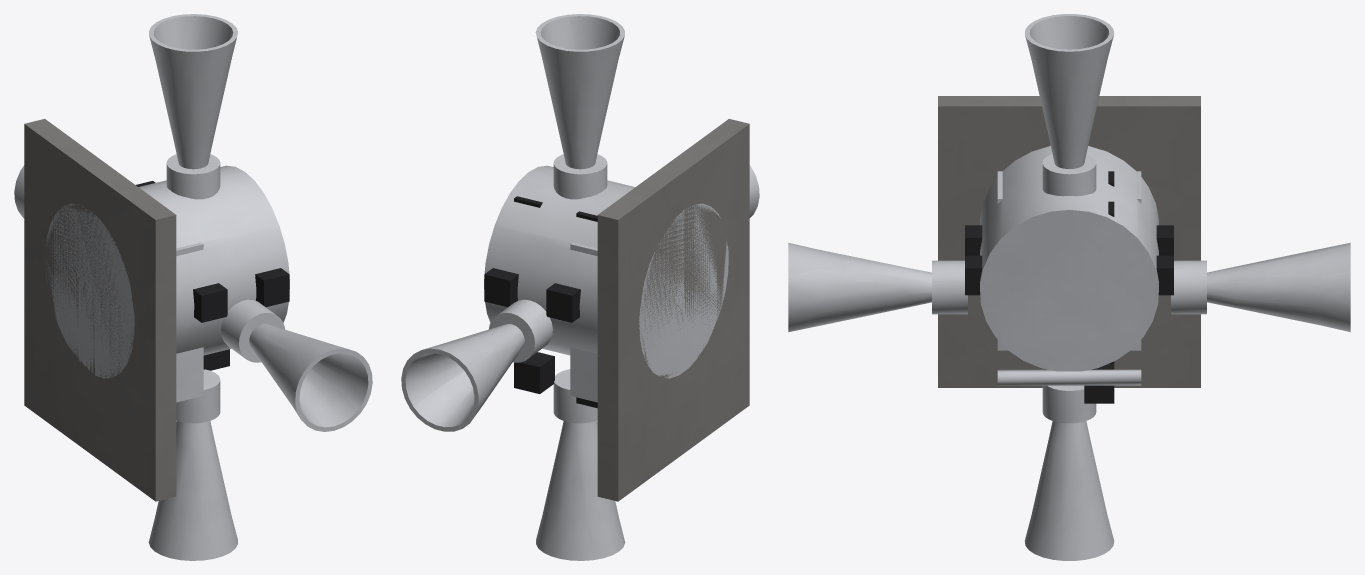
Rendered from prop01_rcs_biprop.glb.
The picture shows the model from 3 angles, left to right: view 1: azimuth 30°, elevation 25°; view 2: azimuth 150°, elevation 25°; view 3: azimuth 270°, elevation 25°; orthographic projection.
Parts seen in each view (by area): view 1: mount_plate, thrusters, housing, valves; view 2: mount_plate, thrusters, housing, valves; view 3: thrusters, mount_plate, housing, valves, manifold.
Part boxes in pixels (left/top/right/bottom): mount_plate: left=24, top=119, right=176, bottom=501; thrusters: left=14, top=14, right=372, bottom=560; housing: left=45, top=165, right=289, bottom=402; valves: left=136, top=181, right=289, bottom=370; mount_plate: left=597, top=119, right=749, bottom=501; thrusters: left=401, top=14, right=759, bottom=560; housing: left=484, top=165, right=728, bottom=402; valves: left=484, top=196, right=597, bottom=408; thrusters: left=788, top=14, right=1350, bottom=560; mount_plate: left=938, top=96, right=1200, bottom=387; housing: left=980, top=146, right=1158, bottom=371; valves: left=965, top=171, right=1173, bottom=403; manifold: left=997, top=369, right=1141, bottom=385.
Size of the model in its own units: 0.312 by 0.94 by 0.94.
Materials: 3 (2 with a texture image).
